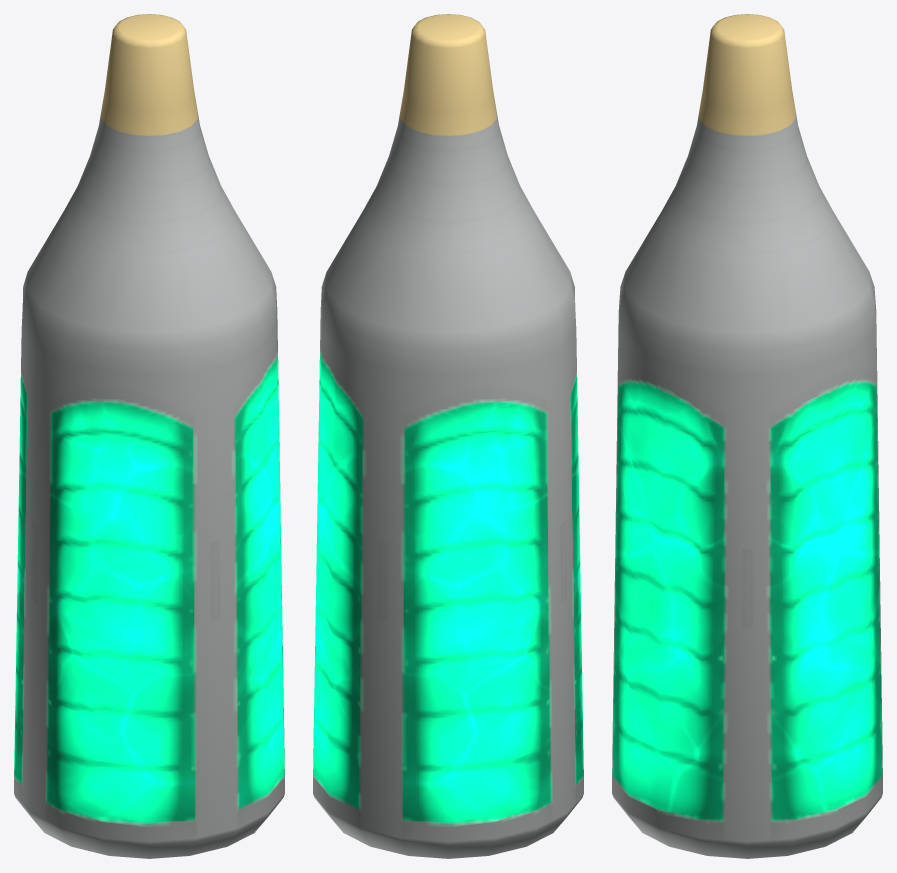
Rendered from BarBottle01_3.FBX.
3 views of the same model, side by side, from view 1: azimuth 30°, elevation 25°; view 2: azimuth 150°, elevation 25°; view 3: azimuth 270°, elevation 25° (orthographic).
Visible parts, largest first — view 1: BarBottle01_3; view 2: BarBottle01_3; view 3: BarBottle01_3.
Boxes of the visible parts, left/top/right/bottom form: BarBottle01_3: left=14, top=14, right=284, bottom=858; BarBottle01_3: left=313, top=14, right=583, bottom=858; BarBottle01_3: left=612, top=14, right=882, bottom=858.
Size of what is drawn, in the model's own units: 0.0967 by 0.3033 by 0.0952.
